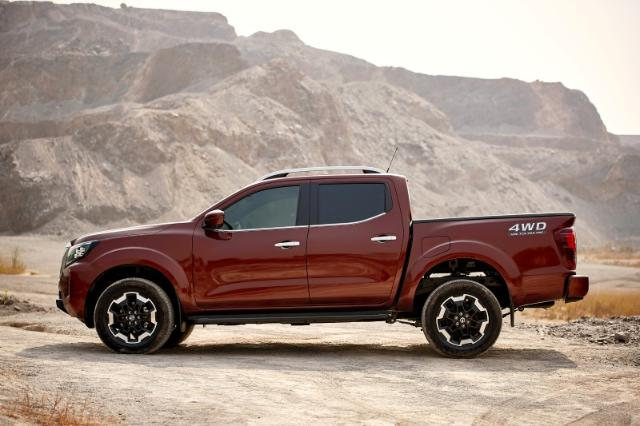pickup-truck: (56, 170, 590, 357)
